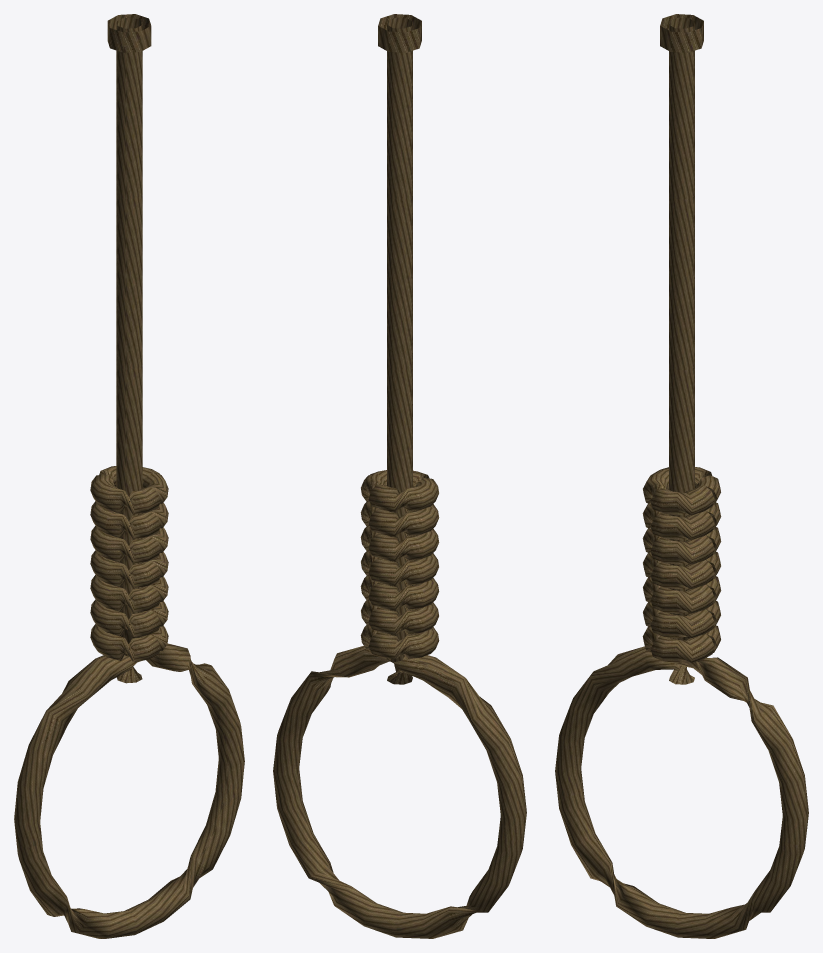
Rendered from noose.glb.
The picture shows the model from 3 angles, left to right: view 1: azimuth 30°, elevation 25°; view 2: azimuth 150°, elevation 25°; view 3: azimuth 330°, elevation 25°; orthographic projection.
Visible parts, largest first — view 1: Noose; view 2: Noose; view 3: Noose.
Part boxes in pixels (left/top/right/bottom): Noose: left=14, top=14, right=244, bottom=938; Noose: left=273, top=14, right=526, bottom=938; Noose: left=555, top=14, right=808, bottom=938.
Size of the model in its own units: 0.245 by 0.892 by 0.07.
1 material, 1 textured.
